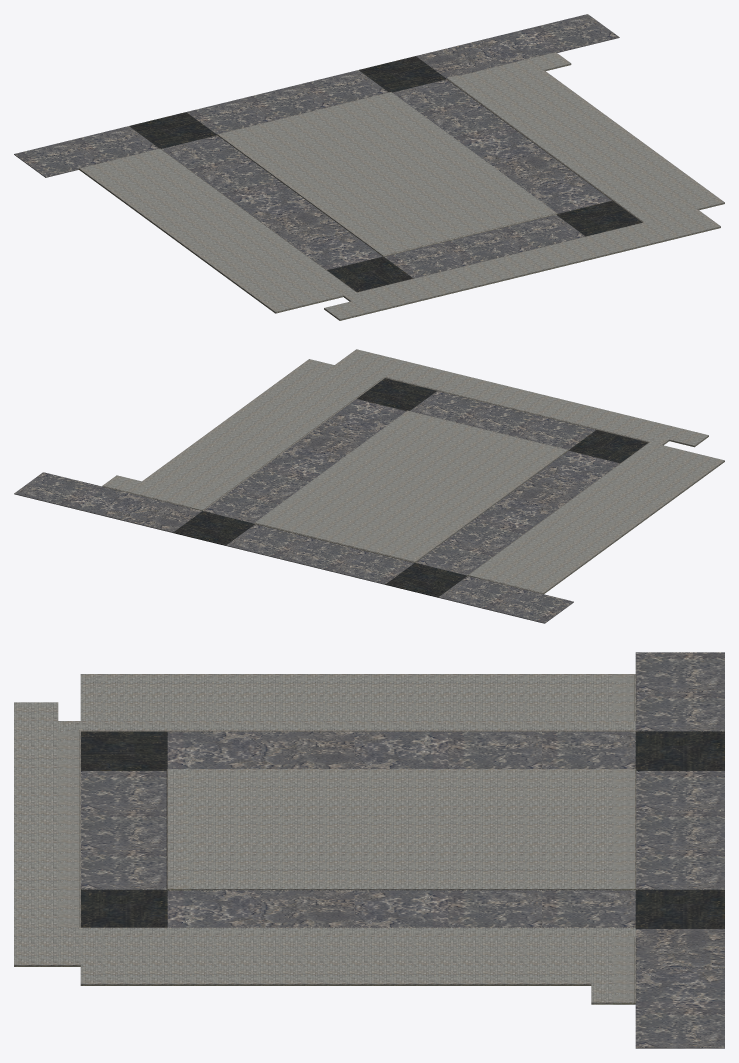
The model's file is Area2Foundation01.fbx.
3 renders of one model, top to bottom at view 1: azimuth 30°, elevation 25°; view 2: azimuth 150°, elevation 25°; view 3: azimuth 270°, elevation 25°, orthographic. The views are drawn at different scales.
Visible parts, largest first — view 1: Area2Foundation; view 2: Area2Foundation; view 3: Area2Foundation.
Part boxes in pixels (x1=…): Area2Foundation: x1=14, y1=14, x2=724, y2=320; Area2Foundation: x1=14, y1=349, x2=724, y2=623; Area2Foundation: x1=14, y1=652, x2=724, y2=1048.
Bounding box in the file's own units: 1375 × 4.07 × 1045.
